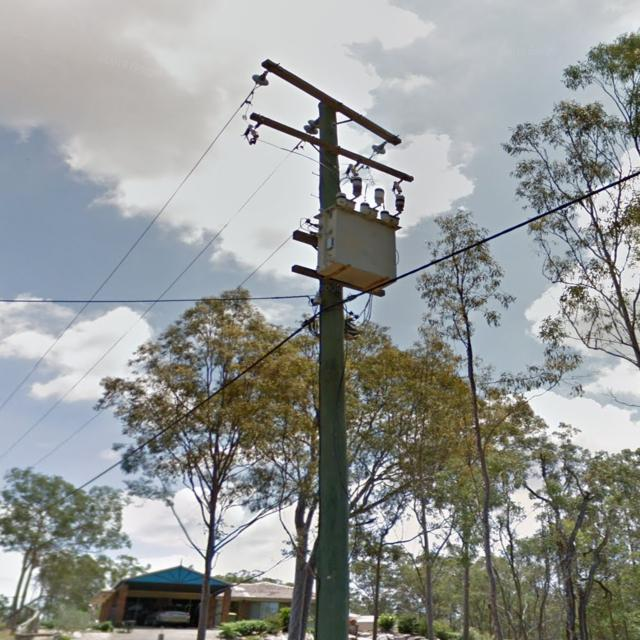HV-transmission: (244, 58, 415, 181)
crossarm: (261, 57, 403, 147), (248, 112, 416, 183), (292, 264, 386, 298)
timber-pole: (314, 95, 348, 640)
transformer: (316, 178, 407, 295)
